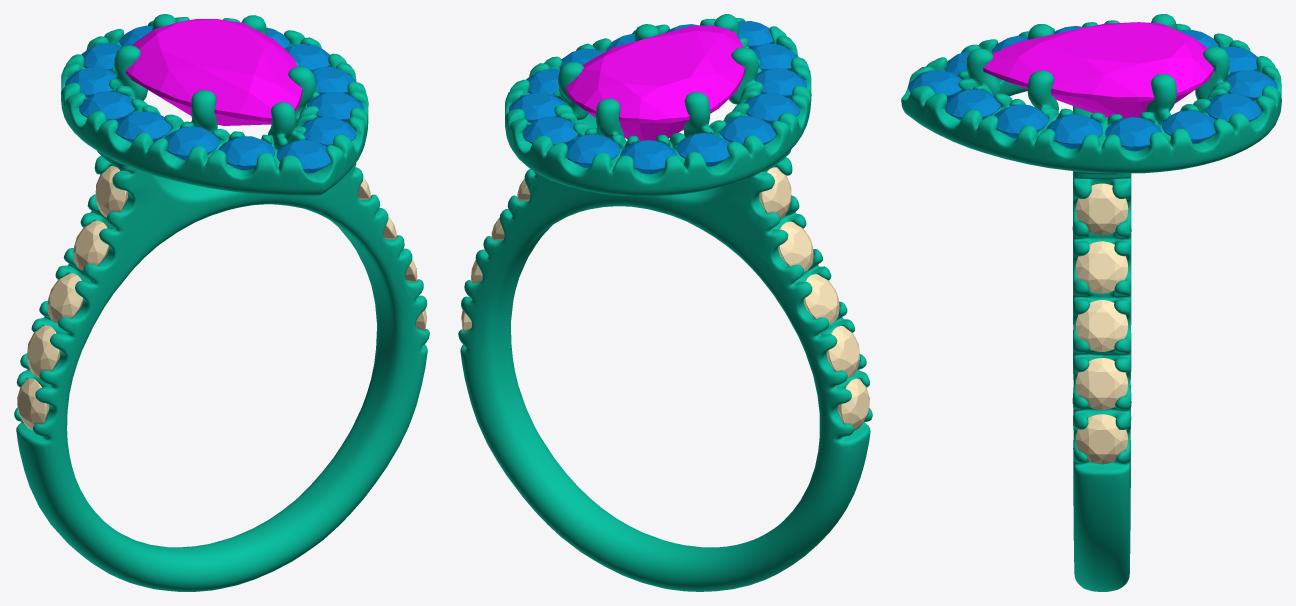
File: BE1D785_PE_200ct_RENDER.glb
3 views of the same model, side by side, from view 1: azimuth 30°, elevation 25°; view 2: azimuth 150°, elevation 25°; view 3: azimuth 270°, elevation 25° (orthographic).
Visible parts, largest first — view 1: Metal 01, CS_Diamond_Pear, Diamond_Round_Gem_SH.002, Diamond_Round_Gem_HD.005, Diamond_Round_Gem_SH.001, Diamond_Round_Gem_HD.004, Diamond_Round_Gem_HD.003, Diamond_Round_Gem_SH.004, Diamond_Round_Gem_HD.002, Diamond_Round_Gem_HD.006, Diamond_Round_Gem_SH.003, Diamond_Round_Gem_HD.007 (+6 smaller); view 2: Metal 01, CS_Diamond_Pear, Diamond_Round_Gem_SH.002, Diamond_Round_Gem_HD, Diamond_Round_Gem_SH.001, Diamond_Round_Gem_HD.013, Diamond_Round_Gem_HD.001, Diamond_Round_Gem_SH.004, Diamond_Round_Gem_HD.003, Diamond_Round_Gem_HD.002, Diamond_Round_Gem_HD.012, Diamond_Round_Gem_SH.003 (+6 smaller); view 3: Metal 01, CS_Diamond_Pear, Diamond_Round_Gem_SH.005, Diamond_Round_Gem_SH.007, Diamond_Round_Gem_SH.008, Diamond_Round_Gem_SH.009, Diamond_Round_Gem_SH.006, Diamond_Round_Gem_HD.009, Diamond_Round_Gem_HD.010, Diamond_Round_Gem_HD.008, Diamond_Round_Gem_HD.011, Diamond_Round_Gem_HD.007 (+4 smaller).
Part boxes in pixels (box(x1,y1,x2,y2)): Metal 01: box(14, 14, 429, 591); CS_Diamond_Pear: box(125, 19, 302, 125); Diamond_Round_Gem_SH.002: box(47, 273, 83, 323); Diamond_Round_Gem_HD.005: box(218, 136, 274, 170); Diamond_Round_Gem_SH.001: box(73, 220, 108, 270); Diamond_Round_Gem_HD.004: box(164, 126, 219, 160); Diamond_Round_Gem_HD.003: box(115, 111, 171, 142); Diamond_Round_Gem_SH.004: box(27, 325, 60, 377); Diamond_Round_Gem_HD.002: box(79, 91, 134, 121); Diamond_Round_Gem_HD.006: box(276, 139, 331, 173); Diamond_Round_Gem_SH.003: box(17, 378, 49, 430); Diamond_Round_Gem_HD.007: box(301, 116, 356, 146); Metal 01: box(458, 14, 872, 591); CS_Diamond_Pear: box(566, 25, 744, 141); Diamond_Round_Gem_SH.002: box(803, 274, 839, 323); Diamond_Round_Gem_HD: box(620, 140, 676, 174); Diamond_Round_Gem_SH.001: box(778, 221, 813, 271); Diamond_Round_Gem_HD.013: box(566, 134, 619, 167); Diamond_Round_Gem_HD.001: box(676, 133, 729, 166); Diamond_Round_Gem_SH.004: box(826, 326, 859, 377); Diamond_Round_Gem_HD.003: box(744, 93, 799, 124); Diamond_Round_Gem_HD.002: box(719, 116, 776, 144); Diamond_Round_Gem_HD.012: box(522, 116, 578, 145); Diamond_Round_Gem_SH.003: box(837, 378, 869, 430); Metal 01: box(901, 14, 1281, 591); CS_Diamond_Pear: box(983, 22, 1214, 118); Diamond_Round_Gem_SH.005: box(1076, 358, 1127, 410); Diamond_Round_Gem_SH.007: box(1076, 300, 1127, 351); Diamond_Round_Gem_SH.008: box(1076, 241, 1127, 293); Diamond_Round_Gem_SH.009: box(1076, 183, 1128, 235); Diamond_Round_Gem_SH.006: box(1076, 414, 1127, 464); Diamond_Round_Gem_HD.009: box(1046, 114, 1102, 148); Diamond_Round_Gem_HD.010: box(1105, 117, 1161, 151); Diamond_Round_Gem_HD.008: box(994, 104, 1048, 138); Diamond_Round_Gem_HD.011: box(1162, 110, 1215, 143); Diamond_Round_Gem_HD.007: box(944, 89, 1000, 120).
Bounding box in the file's own units: 20.13 × 25.65 × 16.77.
